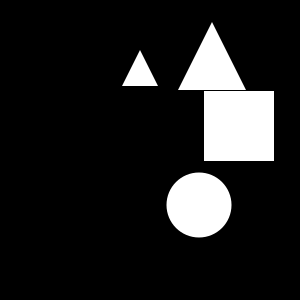circle: (204, 91, 274, 161)
rectangle: (166, 172, 232, 238)
triangle: (178, 22, 246, 90), (122, 50, 158, 86)
